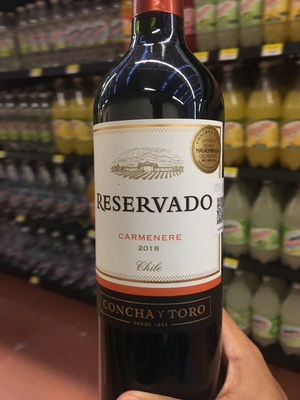reservado carmenere: (90, 8, 223, 400)
